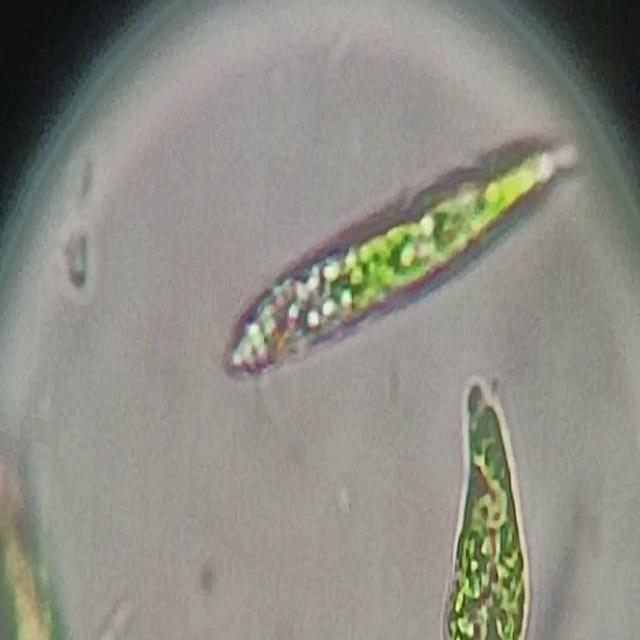Euglena: (228, 133, 578, 377)
Hydra: (2, 0, 638, 638)
Rod_bacteria: (444, 374, 530, 638)
